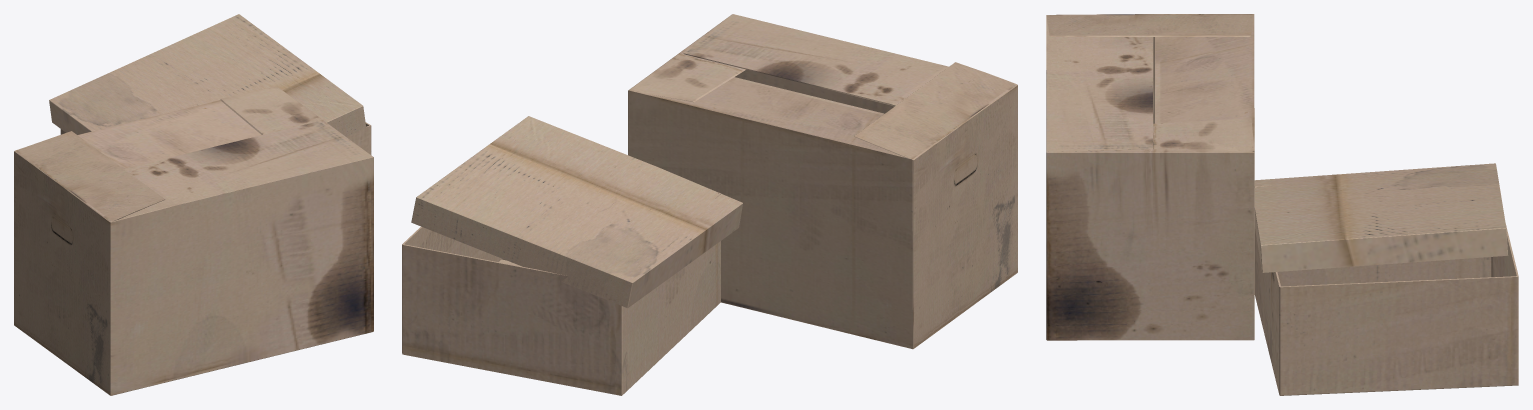
The model's file is stage4_box2.fbx.
3 renders of one model, left to right at view 1: azimuth 30°, elevation 25°; view 2: azimuth 150°, elevation 25°; view 3: azimuth 270°, elevation 25°, orthographic. The views are drawn at different scales.
Visible parts, largest first — view 1: stage4_box2; view 2: stage4_box2; view 3: stage4_box2.
Part boxes in pixels (x1,y1,x2,y2): stage4_box2: (14, 14, 373, 395); stage4_box2: (402, 14, 1017, 395); stage4_box2: (1046, 14, 1518, 395).
Size of the model in its own units: 82.26 by 38.73 by 84.51.
